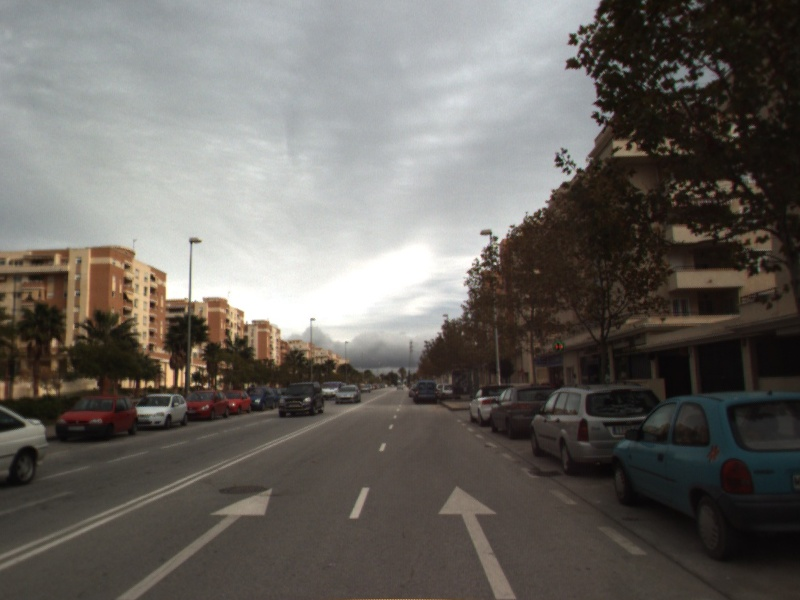STRAIGHT: (111, 485, 275, 600), (435, 483, 518, 600)
